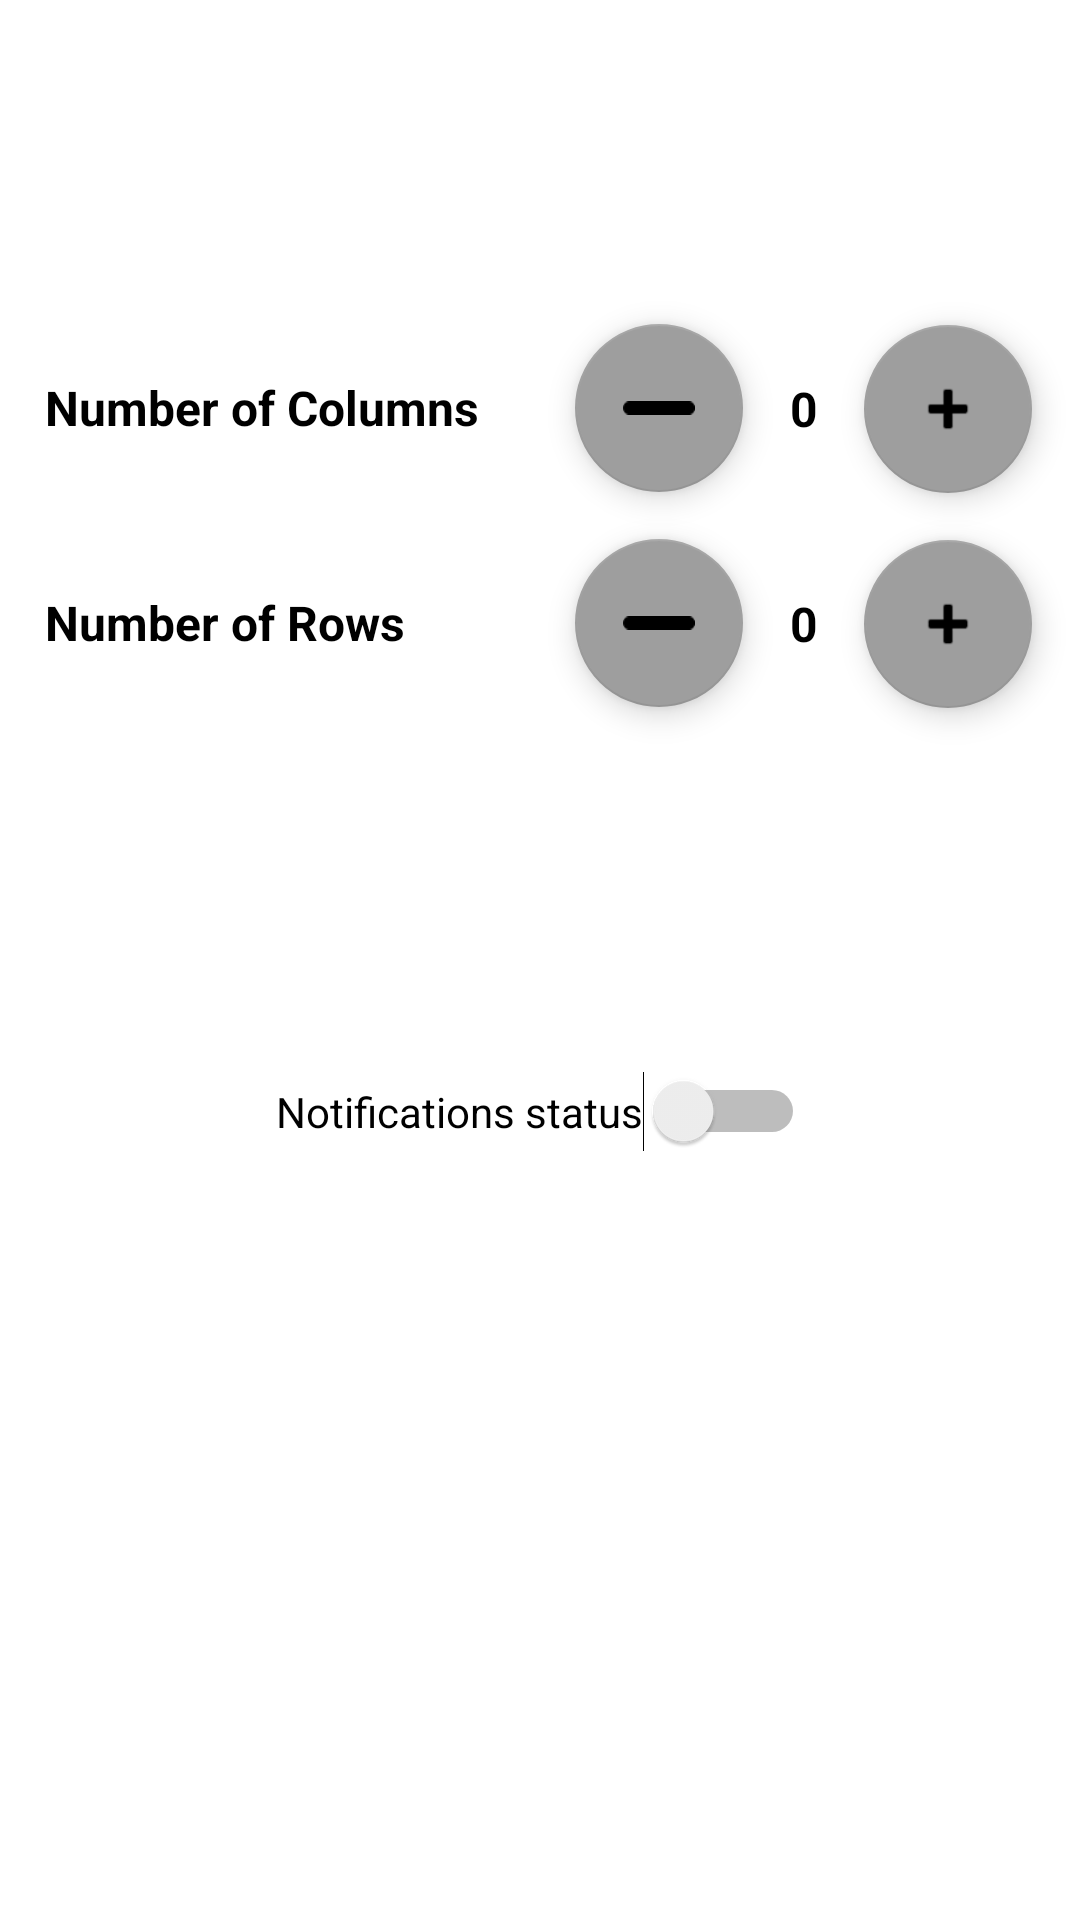

Where to tap for icons on this 1080 × 1920 app screen, as (x=x, y=y):
add: (x=948, y=409), (x=948, y=624)
